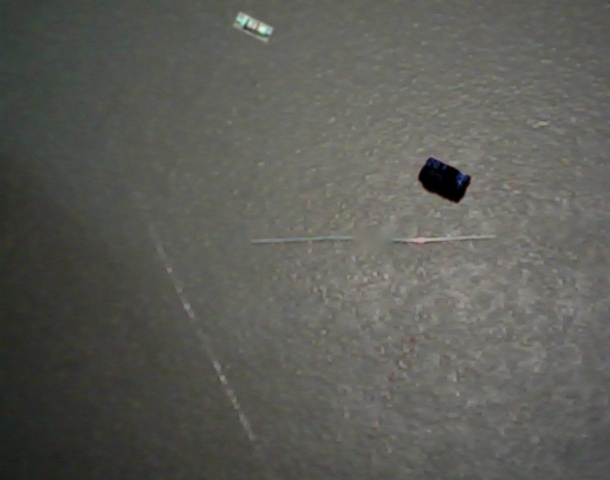capacitor: (418, 157, 472, 203)
resistor: (233, 12, 273, 42)
